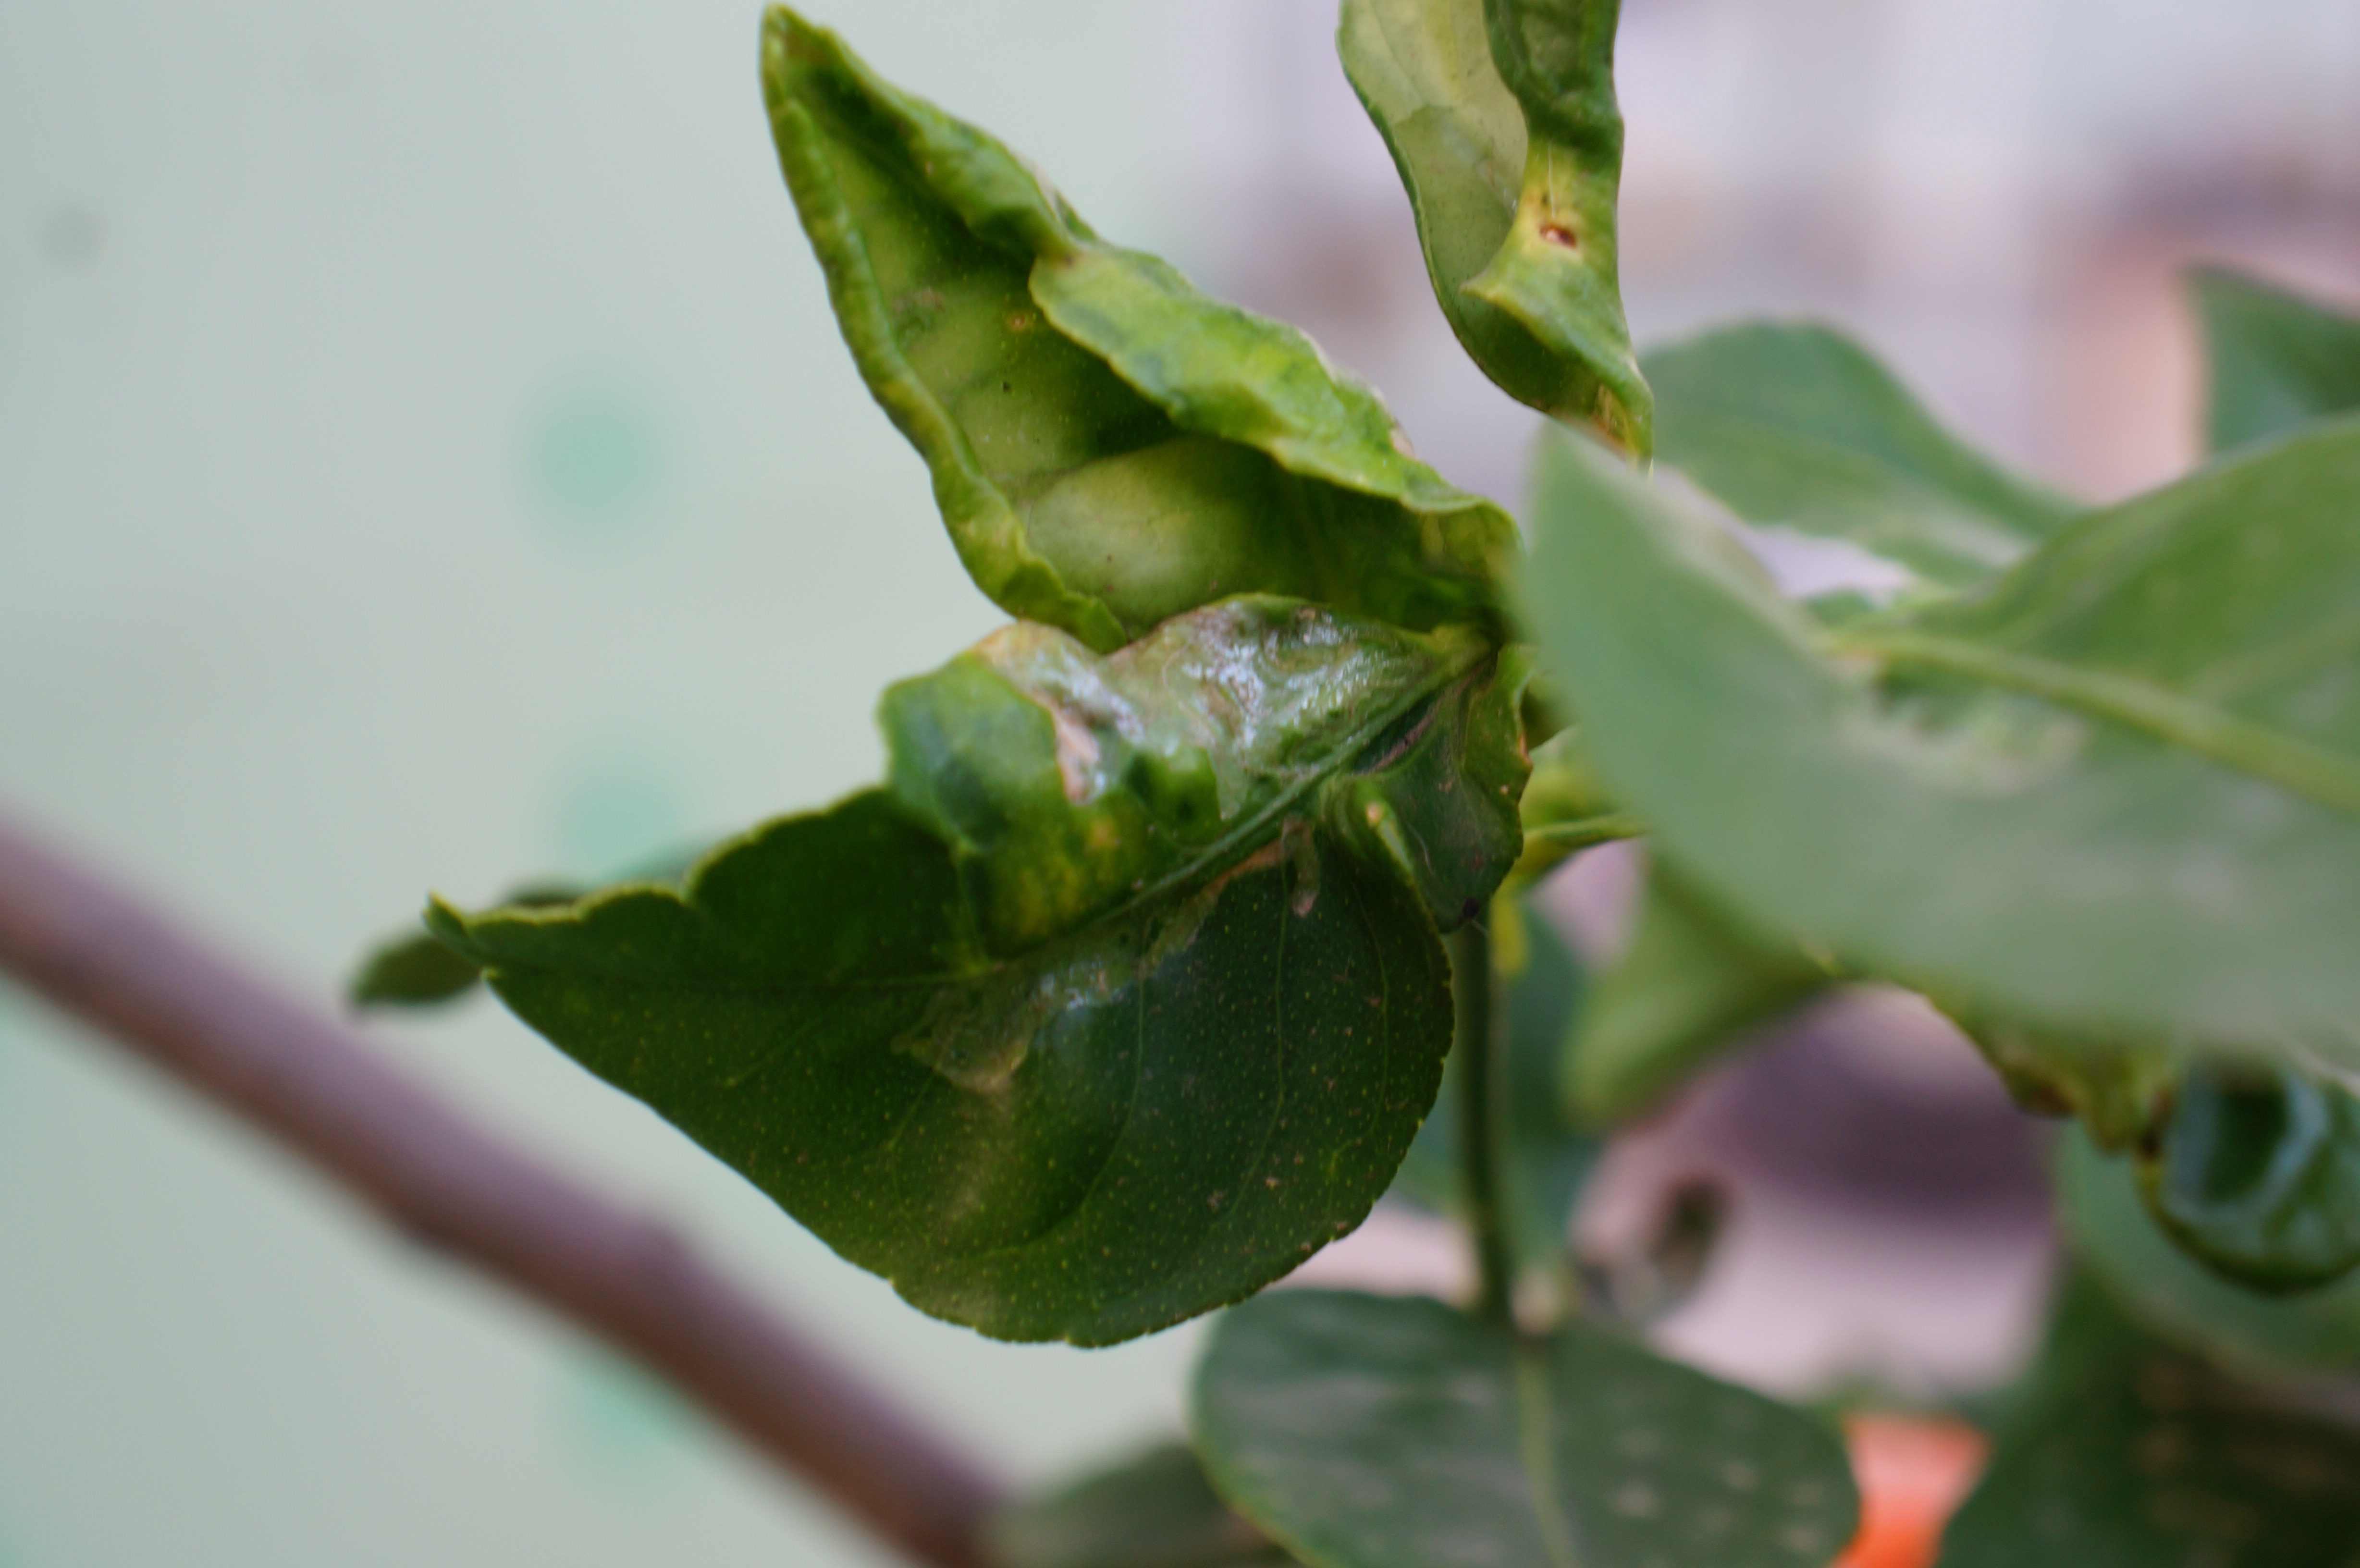curly: (717, 0, 1540, 681)
damage: (1113, 604, 1407, 779)
